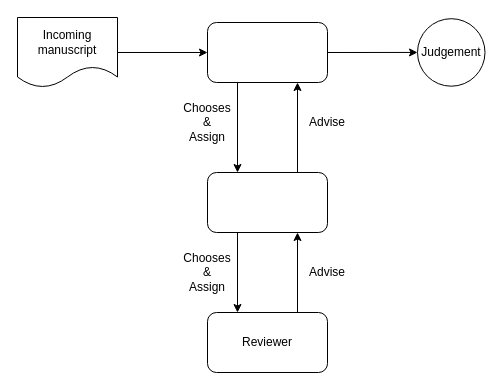
Some shapes in this 503 by 390 pixel diagram are drawn without their labels. Here are the shapes that lost their labels. From the top down, the centre of each, then its label:
At pixel 267 52: "Editor-in-Chief".
At pixel 267 202: "Associate editor".
